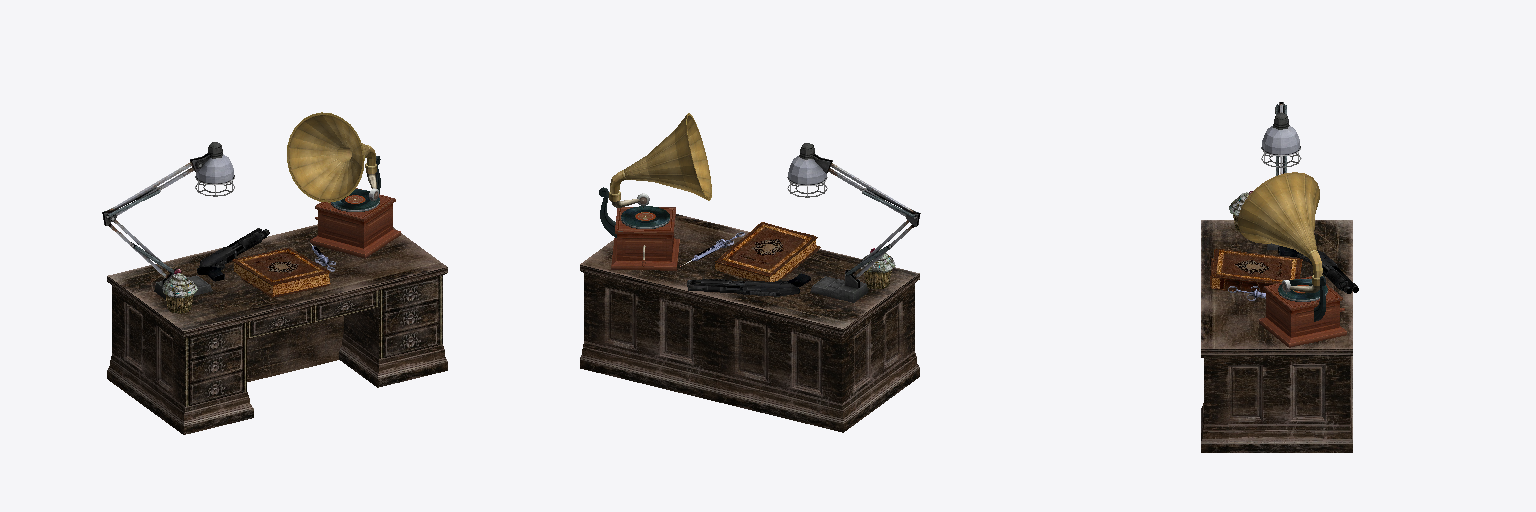
3 renders of one model, left to right at view 1: azimuth 30°, elevation 25°; view 2: azimuth 150°, elevation 25°; view 3: azimuth 270°, elevation 25°, orthographic.
Visible parts, largest first — view 1: PROP_Plain_Table, Gramophone, OBJ_Table_Lamp, Book, Shotgun_Mesh, PROP_Cupcake_Rotten; view 2: PROP_Plain_Table, Gramophone, OBJ_Table_Lamp, Book, Shotgun_Mesh, PROP_Cupcake_Rotten; view 3: PROP_Plain_Table, Gramophone, Book, OBJ_Table_Lamp, Shotgun_Mesh.
Boxes of the visible parts, <box> form: PROP_Plain_Table: <box>107,224,447,434</box>; Gramophone: <box>287,112,400,258</box>; OBJ_Table_Lamp: <box>102,142,234,299</box>; Book: <box>232,248,330,297</box>; Shotgun_Mesh: <box>197,228,269,281</box>; PROP_Cupcake_Rotten: <box>162,269,197,313</box>; PROP_Plain_Table: <box>580,214,919,432</box>; Gramophone: <box>599,113,711,270</box>; OBJ_Table_Lamp: <box>787,143,920,302</box>; Book: <box>715,222,820,281</box>; Shotgun_Mesh: <box>687,273,810,296</box>; PROP_Cupcake_Rotten: <box>860,248,895,289</box>; PROP_Plain_Table: <box>1201,220,1352,452</box>; Gramophone: <box>1238,172,1346,347</box>; Book: <box>1210,248,1302,292</box>; OBJ_Table_Lamp: <box>1261,102,1301,249</box>; Shotgun_Mesh: <box>1278,246,1358,293</box>.
Bounding box in the file's own units: 4.12 × 3.18 × 1.87.
Materials: 7 (7 with a texture image).